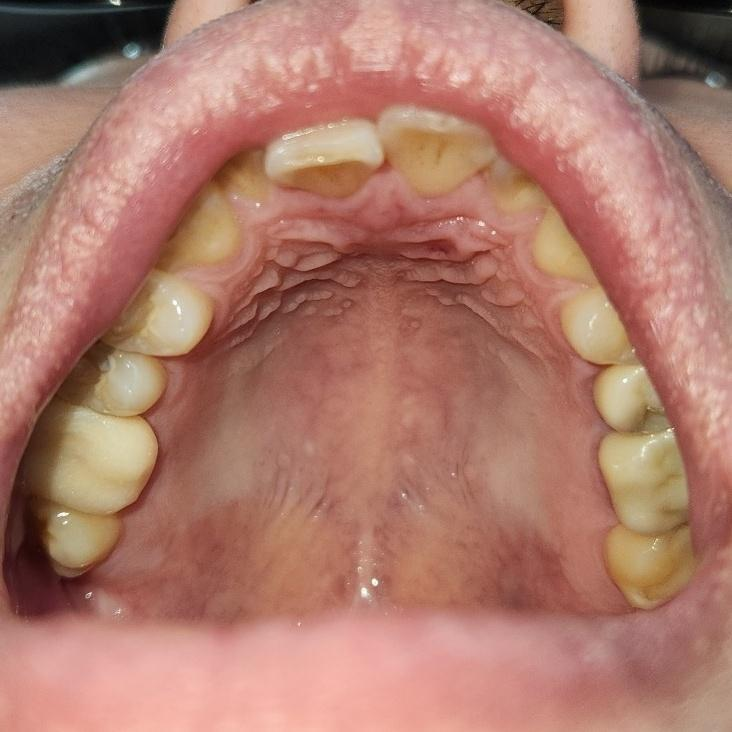Crowding: (263, 100, 502, 204)
Healthy: (21, 274, 232, 587), (561, 281, 701, 609)
